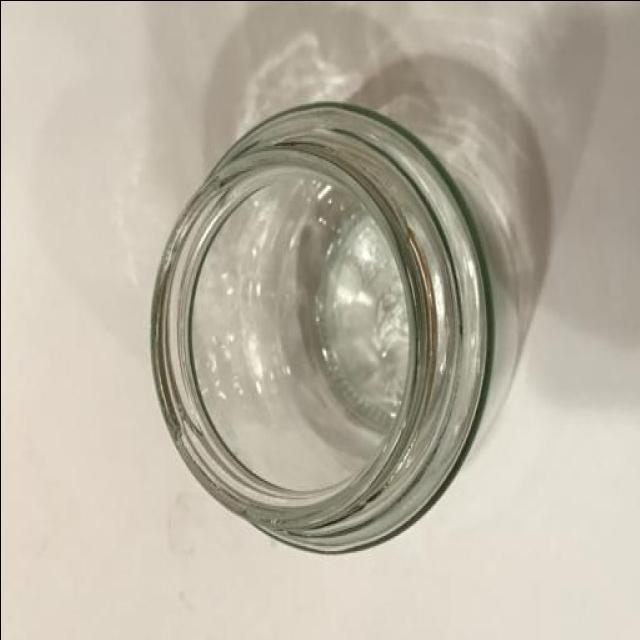glass: (138, 76, 530, 566)
